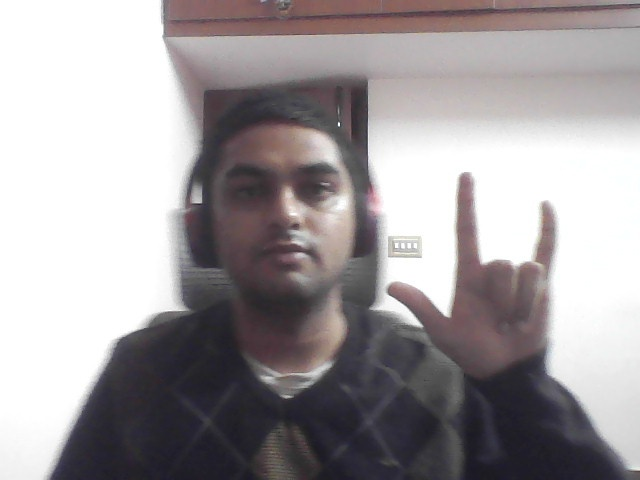I Love You: (377, 135, 584, 411)
